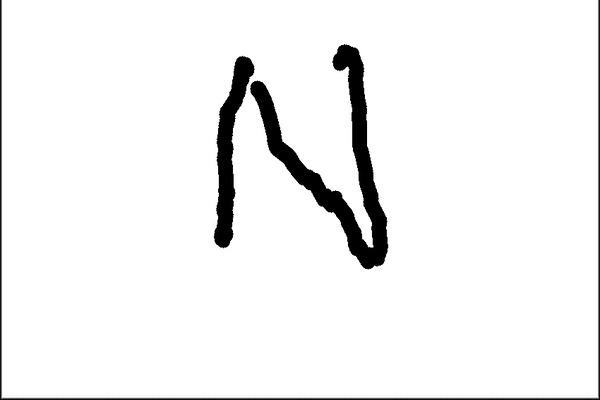N: (204, 38, 395, 274)
